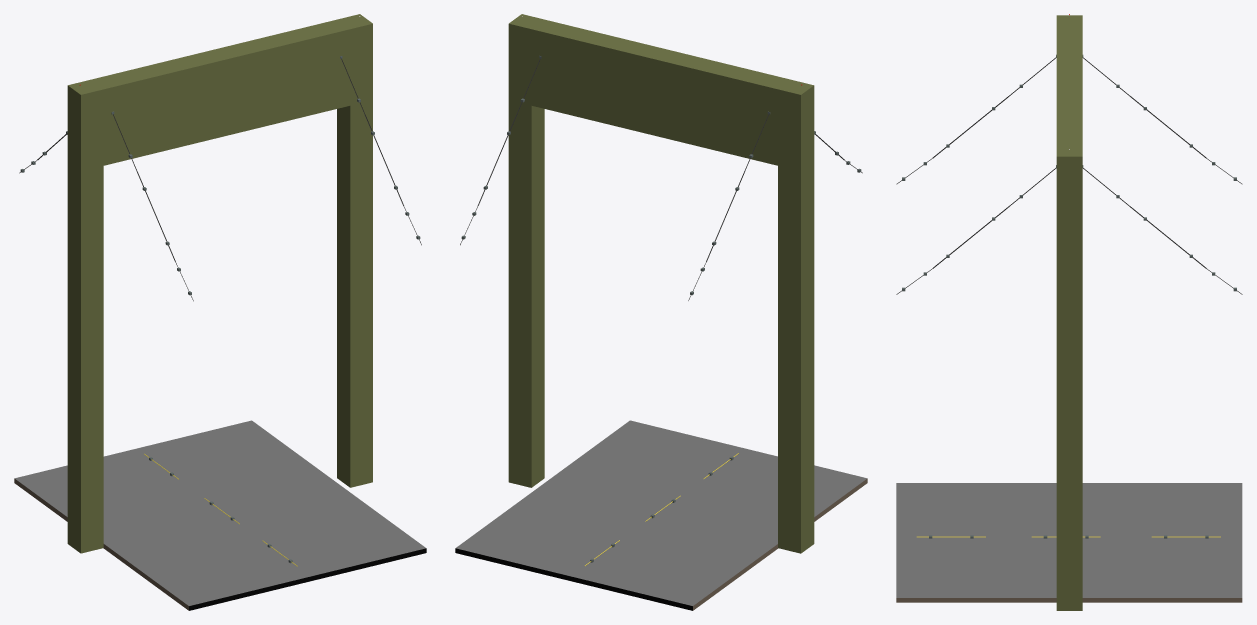
3 views of the same model, side by side, from view 1: azimuth 30°, elevation 25°; view 2: azimuth 150°, elevation 25°; view 3: azimuth 270°, elevation 25° (orthographic).
Parts seen in each view (by area): view 1: BR83 | archived geometry, BR83 | line, light and sprite surfaces; view 2: BR83 | archived geometry, BR83 | line, light and sprite surfaces; view 3: BR83 | archived geometry, BR83 | line, light and sprite surfaces.
Part boxes in pixels (x1=…): BR83 | archived geometry: x1=14, y1=14, x2=426, y2=610; BR83 | line, light and sprite surfaces: x1=19, y1=16, x2=421, y2=566; BR83 | archived geometry: x1=455, y1=14, x2=867, y2=610; BR83 | line, light and sprite surfaces: x1=460, y1=16, x2=862, y2=565; BR83 | archived geometry: x1=896, y1=15, x2=1242, y2=610; BR83 | line, light and sprite surfaces: x1=896, y1=14, x2=1242, y2=537.
Bounding box in the file's own units: 16 × 24.48 × 16.57.
